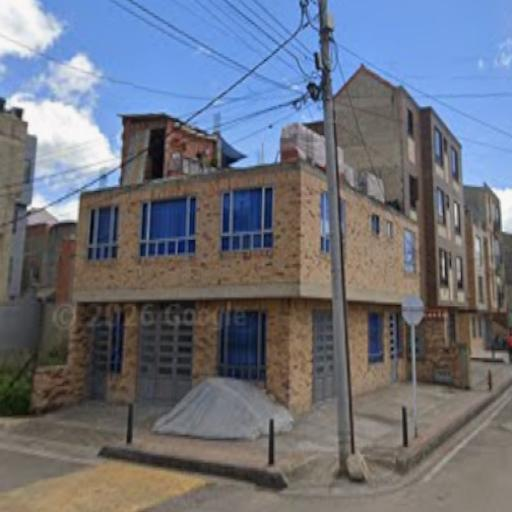poste: (312, 3, 355, 465)
